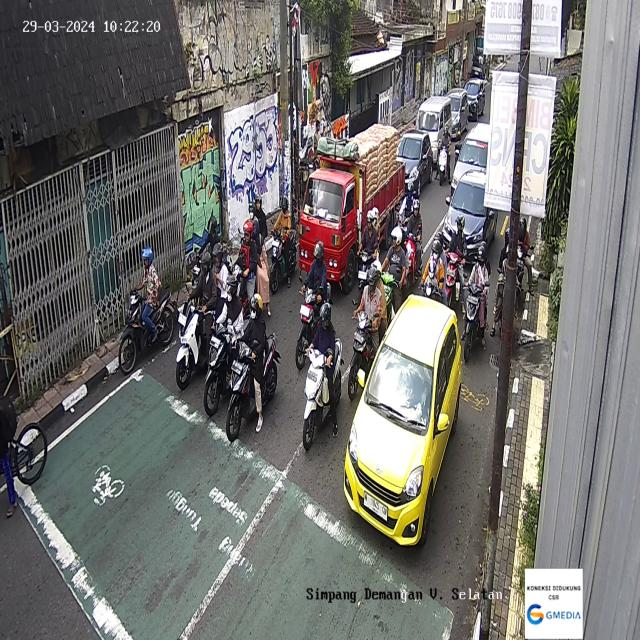car: (343, 292, 462, 548), (443, 169, 497, 265), (451, 121, 490, 199), (396, 129, 434, 197), (414, 96, 452, 164), (446, 87, 468, 138), (464, 78, 486, 120)
motorcycle: (175, 240, 231, 390), (225, 294, 281, 442), (118, 247, 176, 375), (202, 274, 252, 416), (302, 301, 343, 451), (348, 260, 387, 401), (294, 240, 333, 370), (228, 222, 272, 320), (462, 240, 492, 363), (268, 195, 297, 294), (356, 204, 381, 308), (443, 213, 467, 308), (419, 231, 448, 306), (382, 224, 406, 314), (405, 198, 423, 289), (436, 124, 452, 187)
truck: (298, 122, 406, 295)
